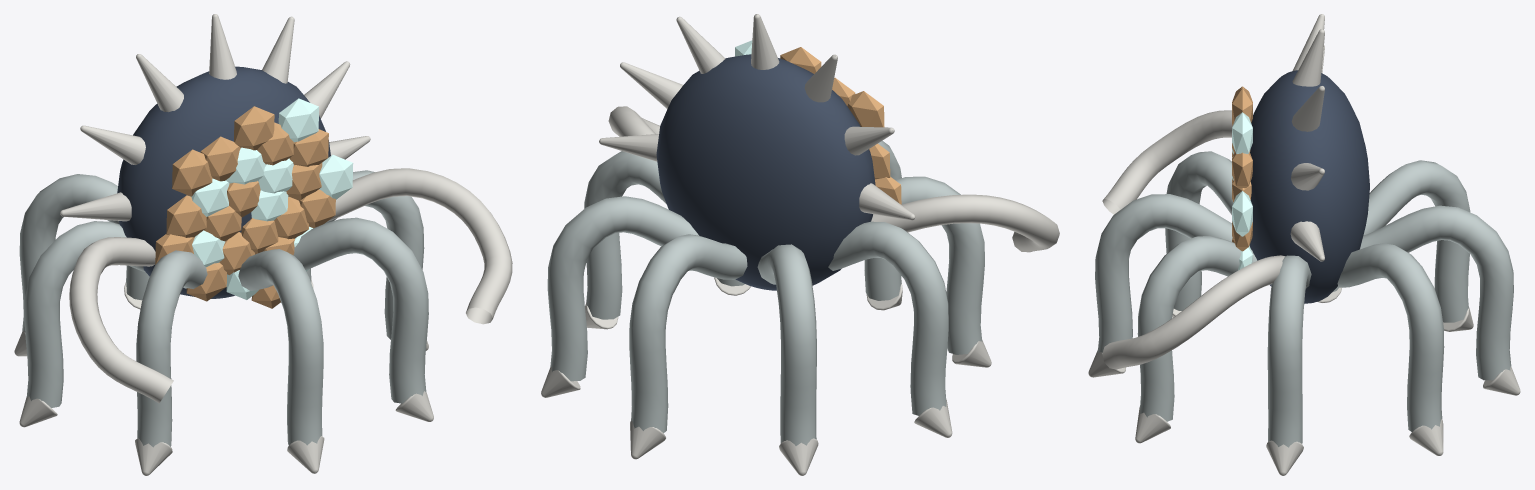
Rendered from bio_crown_stalker_08_near.glb.
The picture shows the model from 3 angles, left to right: view 1: azimuth 30°, elevation 25°; view 2: azimuth 150°, elevation 25°; view 3: azimuth 270°, elevation 25°; orthographic projection. The views are drawn at different scales.
Visible parts, largest first — view 1: Compound lens facet.001, Faceted crown substrate, Crooked support.005, Crooked support.004, Crown radiating blade, Compound lens facet, Scythe sensory limb.001, Crooked support.002, Scythe sensory limb, Crooked support.003, Crooked support.001, Crooked support.006 (+5 smaller); view 2: Faceted crown substrate, Crooked support.007, Crooked support, Crooked support.002, Crooked support.001, Crown radiating blade, Crooked support.003, Crooked support.006, Scythe sensory limb, Compound lens facet.001, Crooked support.004, Scythe sensory limb.001 (+5 smaller); view 3: Faceted crown substrate, Crooked support, Crooked support.007, Crooked support.004, Crooked support.005, Crooked support.006, Crooked support.001, Scythe sensory limb.001, Scythe sensory limb, Crown radiating blade, Crooked support.003, Compound lens facet.001 (+6 smaller).
Part boxes in pixels (<box>): Compound lens facet.001: <box>155,106,335,308</box>; Faceted crown substrate: <box>117,66,330,298</box>; Crooked support.005: <box>293,217,428,403</box>; Crooked support.004: <box>238,249,323,445</box>; Crown radiating blade: <box>60,14,370,221</box>; Compound lens facet: <box>189,98,353,299</box>; Scythe sensory limb.001: <box>327,168,512,324</box>; Crooked support.002: <box>24,221,145,407</box>; Scythe sensory limb: <box>69,237,173,403</box>; Crooked support.003: <box>136,250,207,447</box>; Crooked support.001: <box>19,174,119,332</box>; Crooked support.006: <box>324,170,424,339</box>; Faceted crown substrate: <box>656,54,875,290</box>; Crooked support.007: <box>547,196,698,381</box>; Crooked support: <box>629,234,747,433</box>; Crooked support.002: <box>828,221,948,415</box>; Crooked support.001: <box>757,244,816,445</box>; Crown radiating blade: <box>599,14,915,220</box>; Crooked support.003: <box>895,176,984,354</box>; Crooked support.006: <box>584,151,666,319</box>; Scythe sensory limb: <box>871,194,1059,252</box>; Compound lens facet.001: <box>780,47,901,204</box>; Crooked support.004: <box>864,140,901,300</box>; Scythe sensory limb.001: <box>608,106,659,136</box>; Faceted crown substrate: <box>1249,70,1369,303</box>; Crooked support: <box>1360,205,1513,380</box>; Crooked support.007: <box>1337,243,1444,431</box>; Crooked support.004: <box>1095,194,1232,352</box>; Crooked support.005: <box>1137,236,1257,421</box>; Crooked support.006: <box>1267,255,1311,447</box>; Crooked support.001: <box>1363,160,1470,322</box>; Scythe sensory limb.001: <box>1102,255,1285,369</box>; Scythe sensory limb: <box>1102,110,1232,214</box>; Crown radiating blade: <box>1290,14,1324,261</box>; Crooked support.003: <box>1165,151,1233,310</box>; Compound lens facet.001: <box>1232,86,1252,251</box>.
Bounding box in the file's own units: 2.58 × 2.16 × 2.37.
